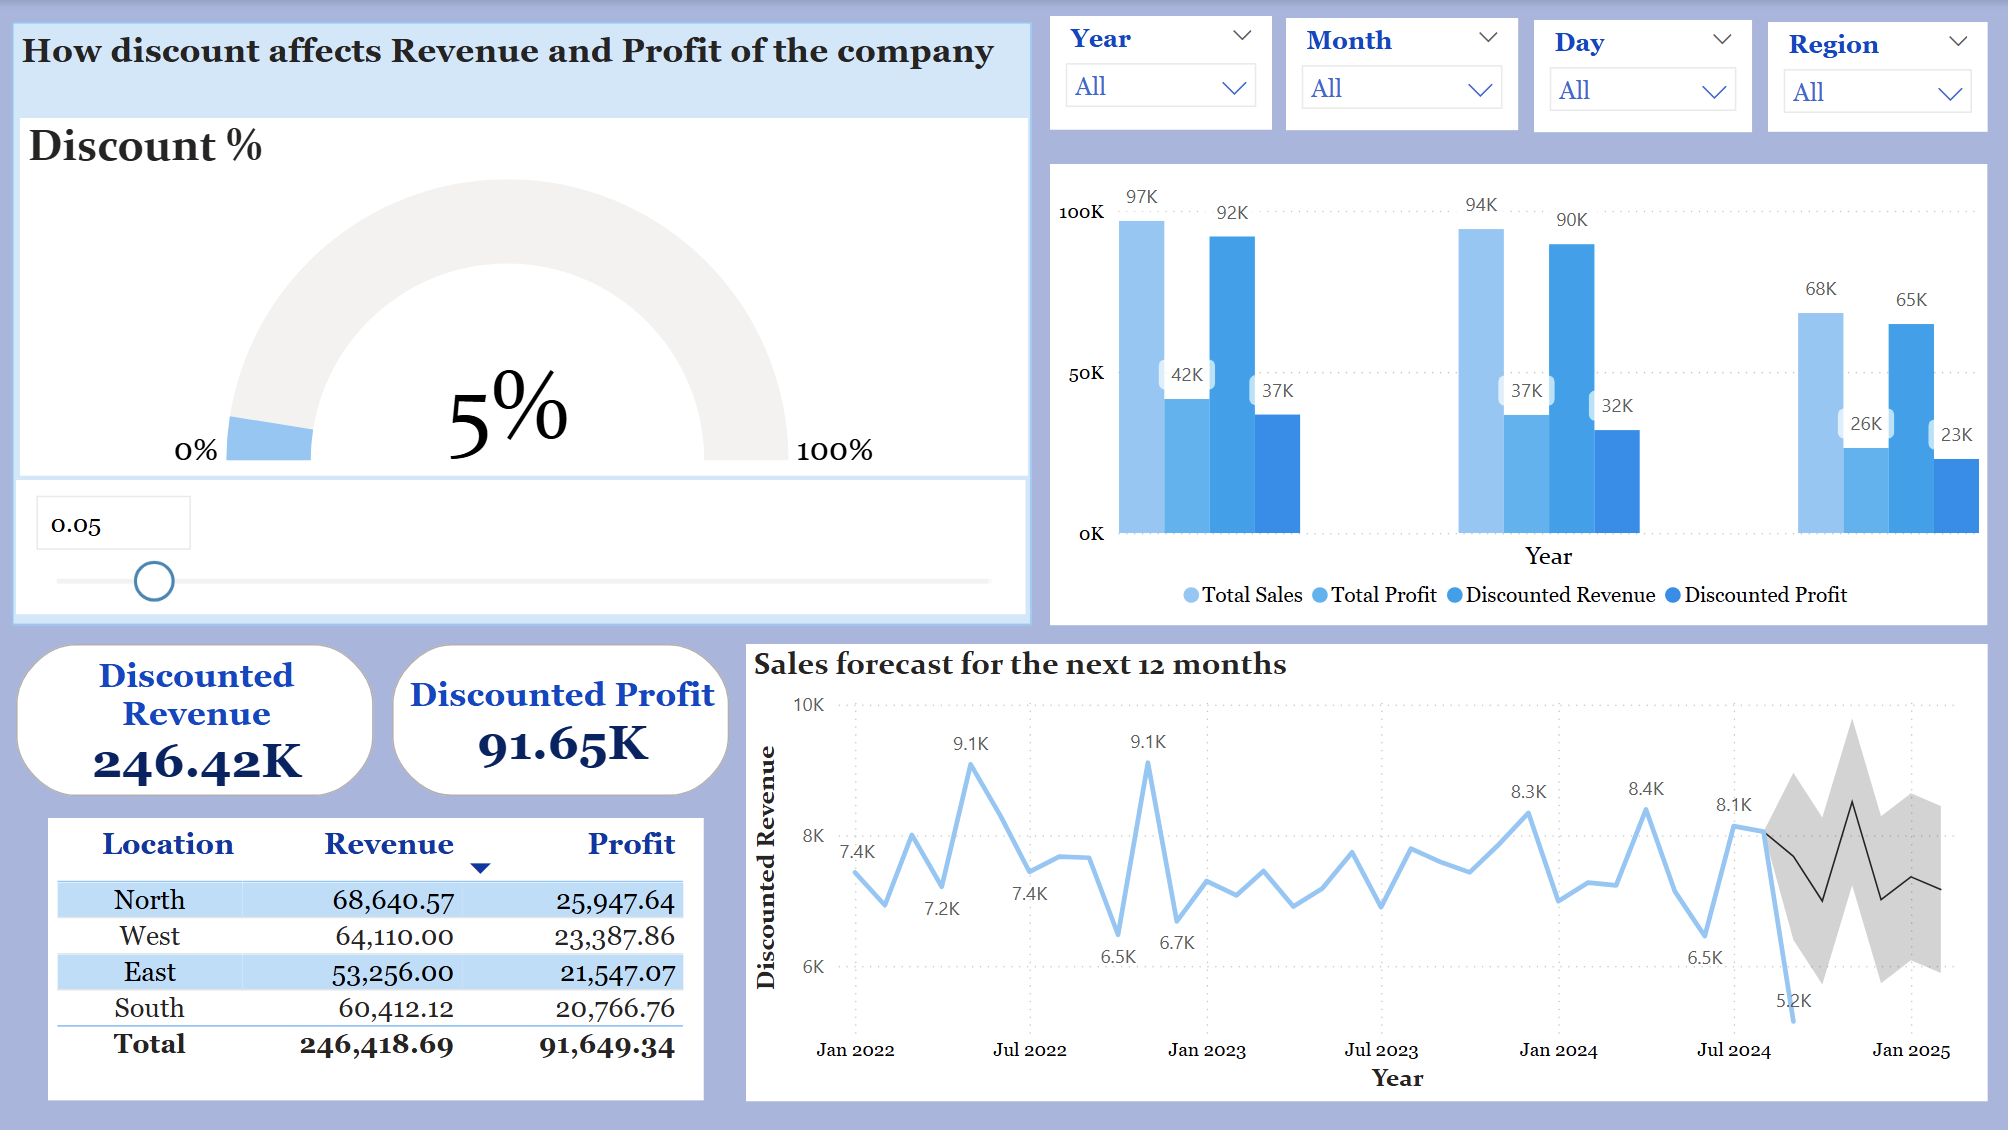

Layout of this report page (visuals, bound fields, positions):
{"tool":"powerbi","page":{"name":"What-if","canvas":[1280,720],"ordinal":4},"visuals":[{"type":"slicer","fields":{"Values":["Discount %.Discount %"]},"box":[10.5,306.1,643.3,85.3],"z":0,"group":"g1"},{"type":"cardVisual","fields":{"Data":["Sales.Discounted Revenue"]},"box":[10.5,410.9,228.4,97.1],"z":0},{"type":"cardVisual","fields":{"Data":["Sales.Discounted Profit"]},"box":[249.4,410.9,215.3,97.1],"z":1000},{"type":"textbox","box":[7.9,14.4,649.8,384.7],"z":2000},{"type":"gauge","title":"Discount %","fields":{"Y":["Sum(Discount %.Discount %)"]},"box":[12.9,74.8,642.3,228.2],"z":3000,"group":"g1"},{"type":"group","id":"g1","title":"Group 1","box":[10.5,74.8,644.6,316.4],"z":3000},{"type":"lineClusteredColumnComboChart","fields":{"Category":["Sales.Sale Date.Variation.Date Hierarchy.Year"],"Y":["Sales.Total Sales","Sales.Total Profit","Sales.Discounted Revenue","Sales.Discounted Profit"]},"box":[669.5,105,597.3,294.1],"z":4000},{"type":"lineChart","title":"Sales forecast for the next 12 months","fields":{"Y":["Sales.Discounted Revenue"],"Category":["Sales.Sale Date.Variation.Date Hierarchy.Year","Sales.Sale Date.Variation.Date Hierarchy.Quarter","Sales.Sale Date.Variation.Date Hierarchy.Month"]},"box":[475.2,410.9,791.6,291.4],"z":5000},{"type":"tableEx","fields":{"Values":["Customers.Location","Sales.Discounted Revenue","Sales.Discounted Profit"]},"box":[30.3,520.9,417.9,180.2],"z":6000},{"type":"slicer","fields":{"Values":["Customers.Location"]},"box":[1127,14,140.2,70.1],"z":7000},{"type":"slicer","fields":{"Values":["Date.Year"]},"box":[669.3,10.2,141.5,72.7],"z":8000},{"type":"slicer","fields":{"Values":["Date.Day"]},"box":[977.8,12.7,139,71.4],"z":9000},{"type":"slicer","fields":{"Values":["Date.Month Name"]},"box":[819.8,11.5,147.9,71.4],"z":10000}]}

Visuals, with their boxes in screenshot pixels (x1, y1, x2, y2), scaled from the page's 1280x720 canvas onto the 2008x1130 screenshot:
slicer - Discount %.Discount %: left=16, top=480, right=1026, bottom=614
cardVisual - Sales.Discounted Revenue: left=16, top=645, right=375, bottom=797
cardVisual - Sales.Discounted Profit: left=391, top=645, right=729, bottom=797
textbox: left=12, top=23, right=1032, bottom=626
"Discount %" gauge: left=20, top=117, right=1028, bottom=476
"Group 1" group: left=16, top=117, right=1028, bottom=614
lineClusteredColumnComboChart - Sales.Sale Date.Variation.Date Hierarchy.Year x Sales.Total Sales: left=1050, top=165, right=1987, bottom=626
"Sales forecast for the next 12 months" lineChart: left=745, top=645, right=1987, bottom=1102
tableEx - Customers.Location x Sales.Discounted Revenue: left=48, top=818, right=703, bottom=1100
slicer - Customers.Location: left=1768, top=22, right=1988, bottom=132
slicer - Date.Year: left=1050, top=16, right=1272, bottom=130
slicer - Date.Day: left=1534, top=20, right=1752, bottom=132
slicer - Date.Month Name: left=1286, top=18, right=1518, bottom=130
